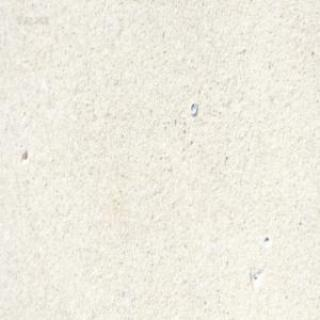Washertrack_idkeyframe: (188, 100, 196, 115)
